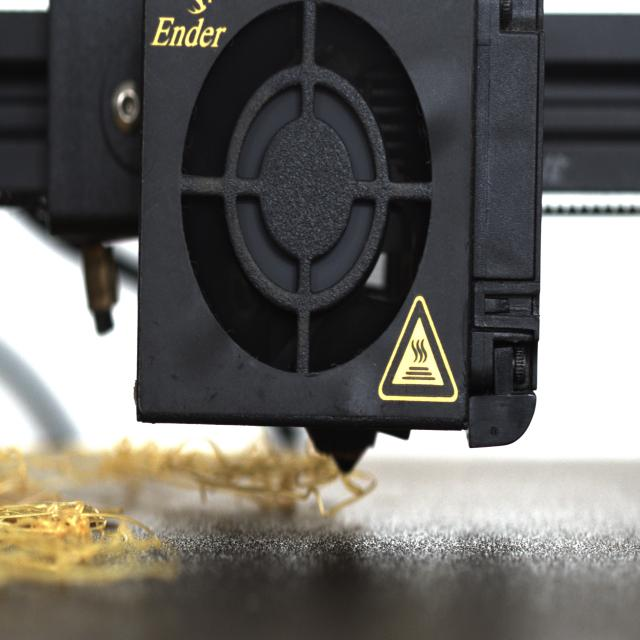Curling_Spagetti: (1, 494, 101, 574)
